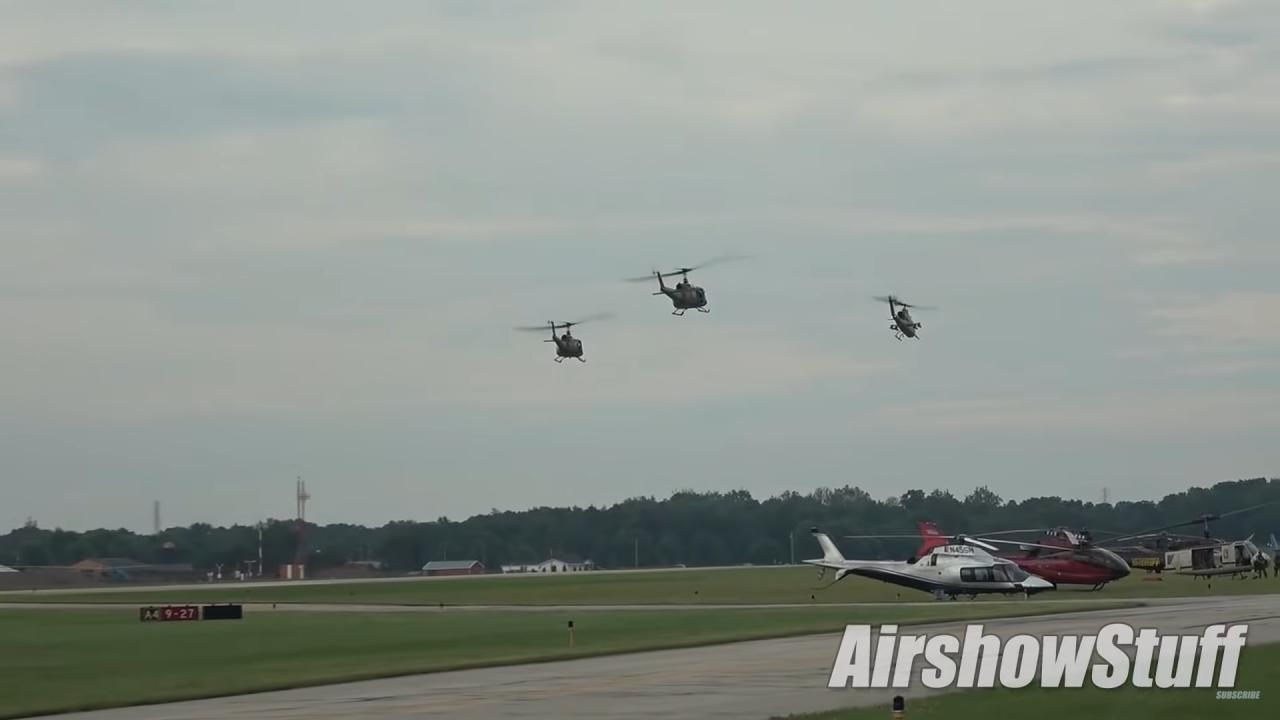Helicopter: (605, 245, 756, 325), (503, 303, 628, 369), (843, 281, 948, 351)
